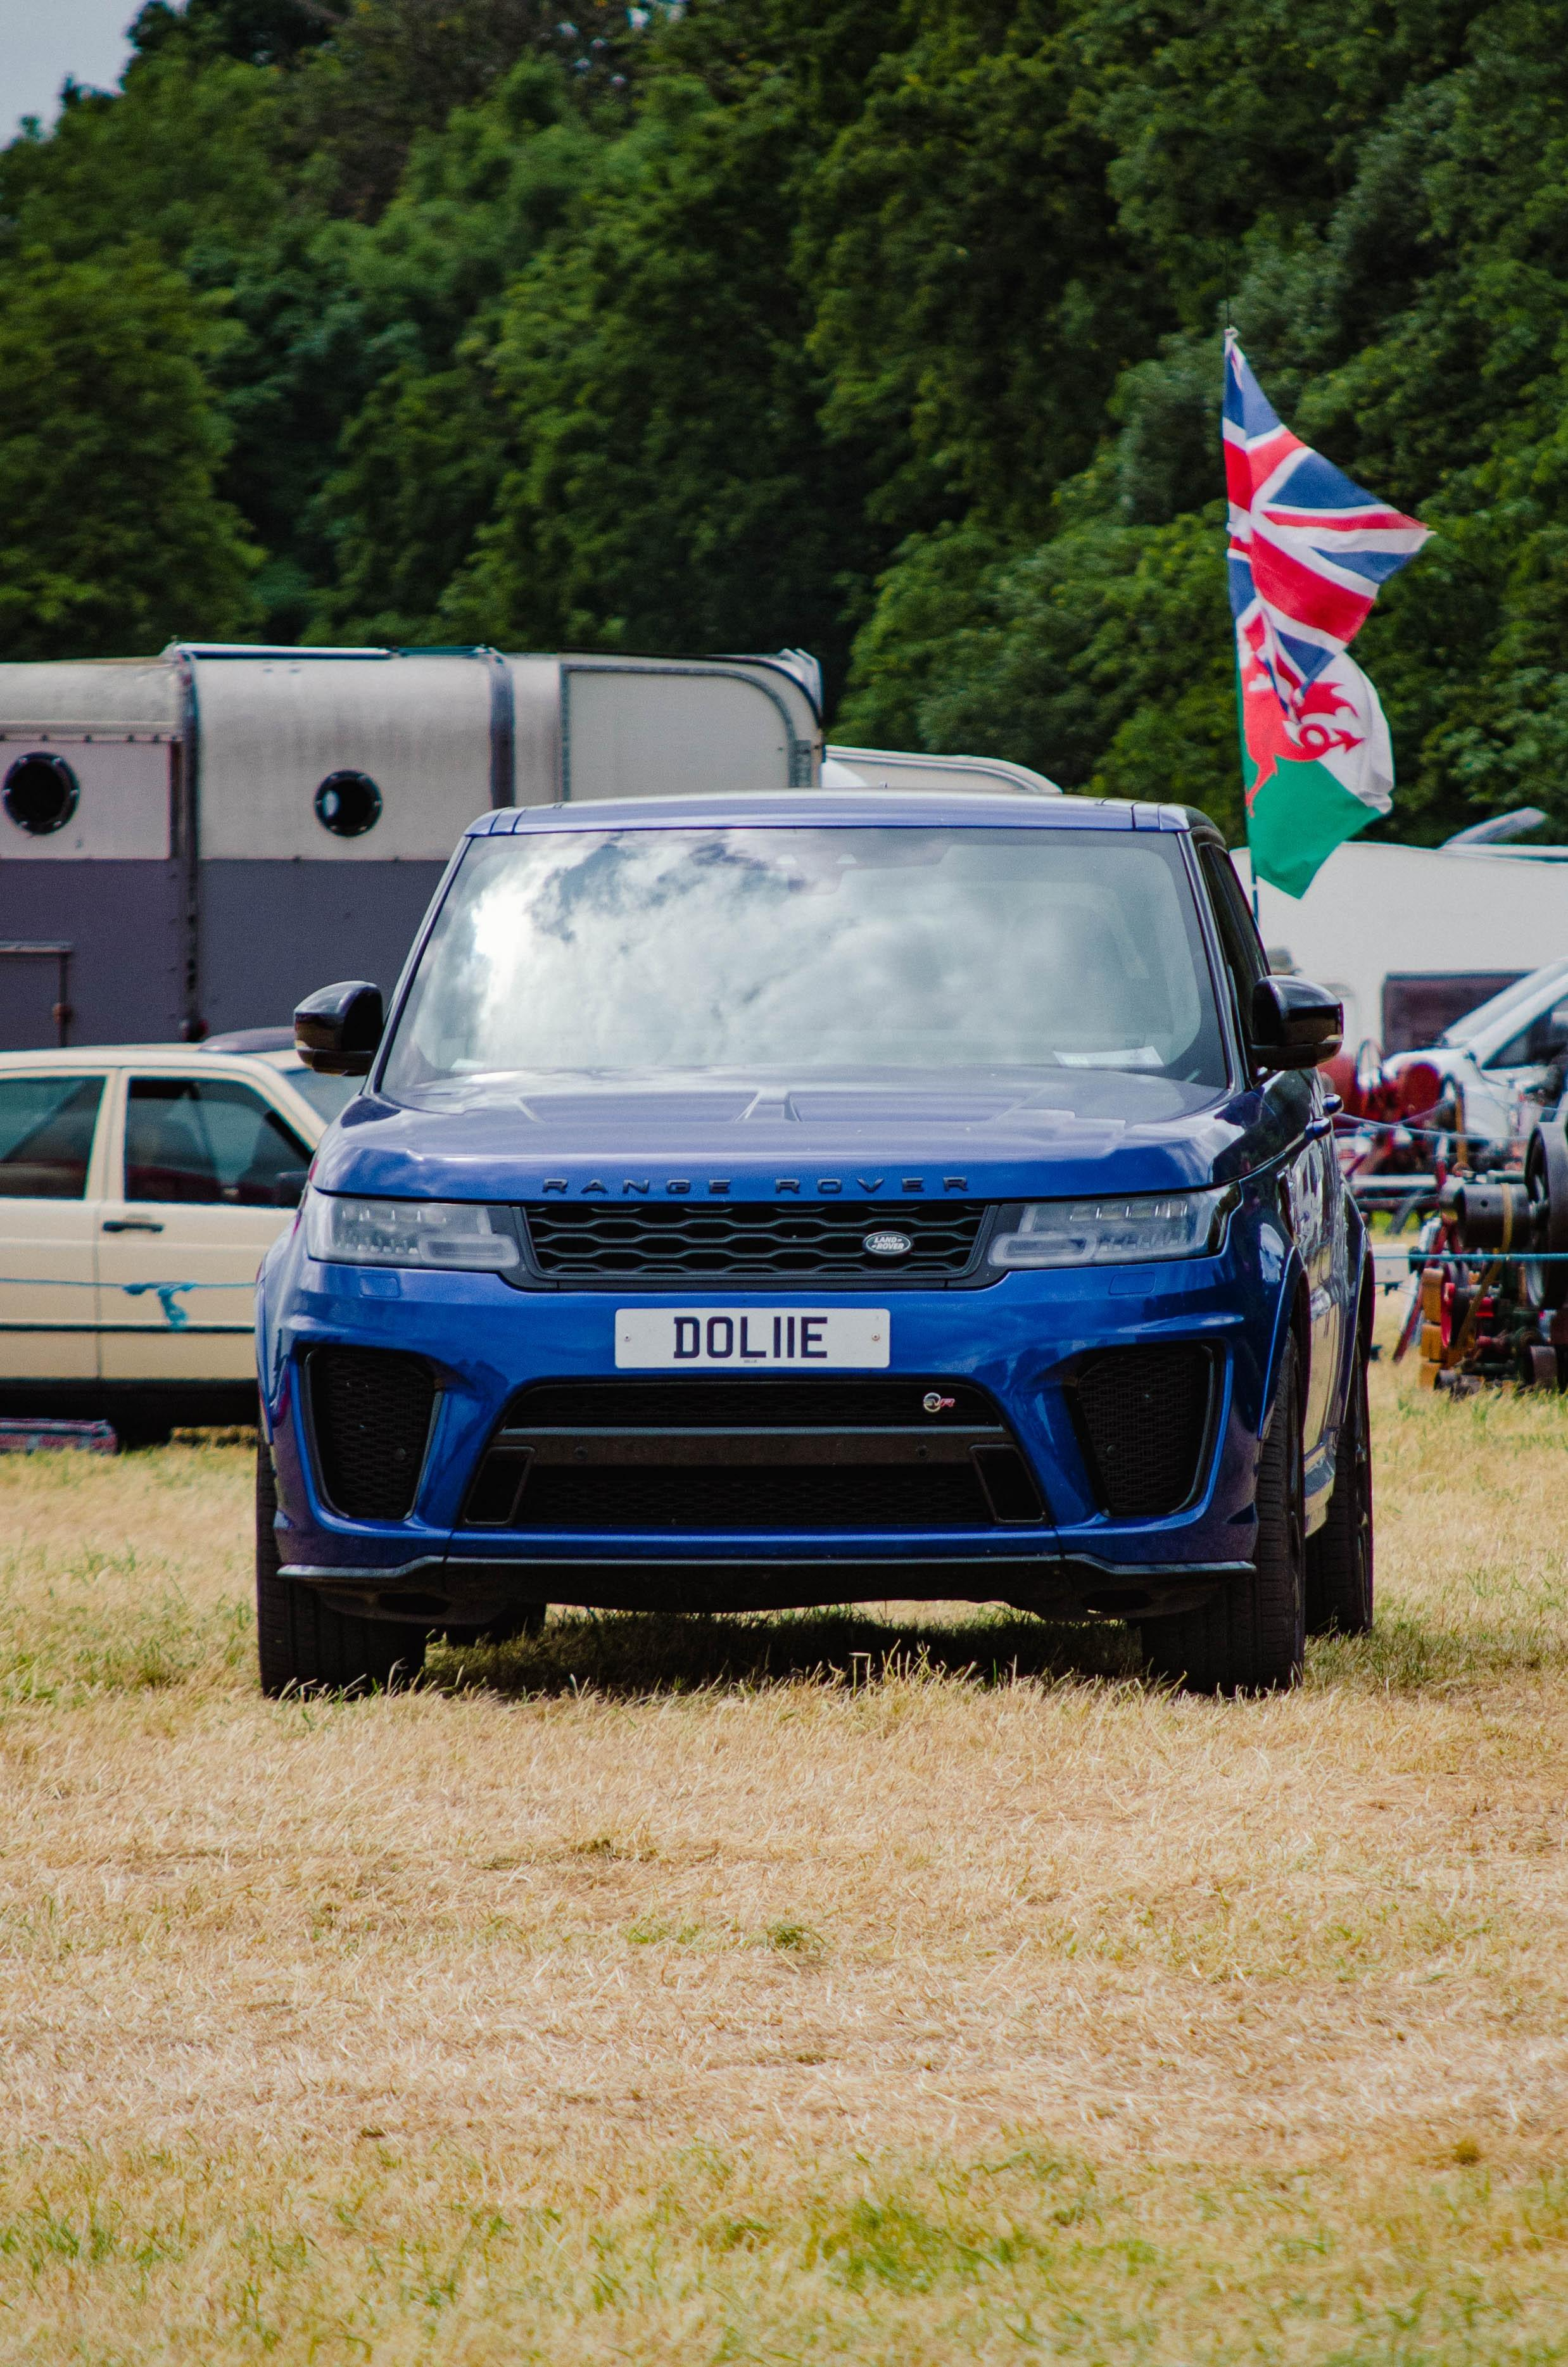range rover: (523, 1156, 999, 1221)
